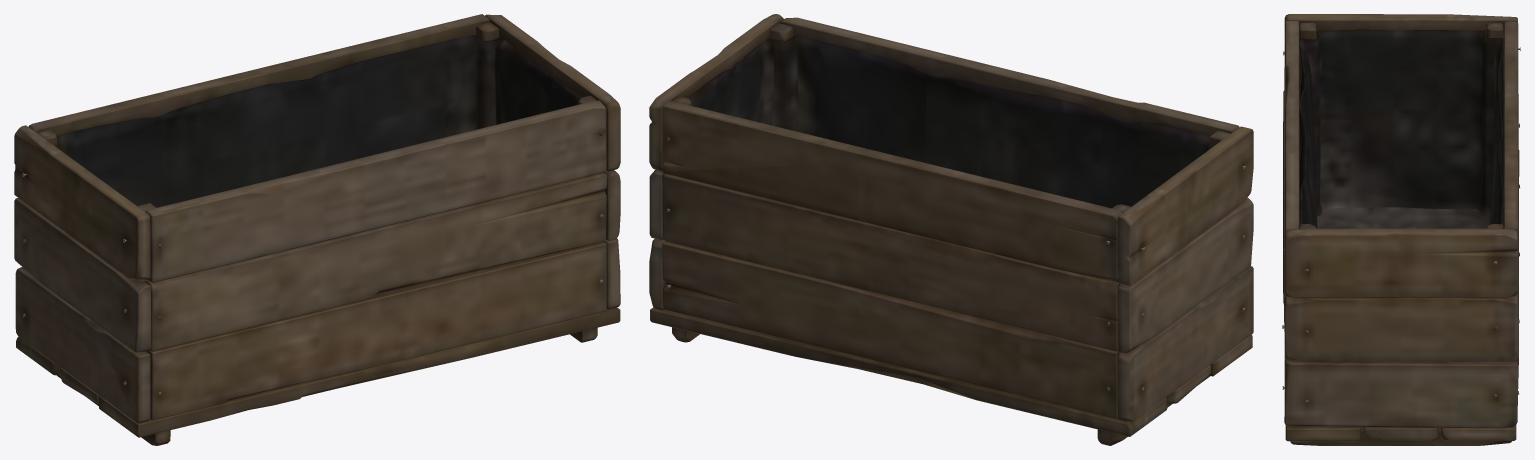
The model's file is planter-box-01.lite.ebd508a8.glb.
3 renders of one model, left to right at view 1: azimuth 30°, elevation 25°; view 2: azimuth 150°, elevation 25°; view 3: azimuth 270°, elevation 25°, orthographic. The views are drawn at different scales.
Parts seen in each view (by area): view 1: model; view 2: model; view 3: model.
Boxes of the visible parts, x1,y1,x2,y2 form: model: [14, 14, 620, 445]; model: [649, 14, 1253, 445]; model: [1282, 14, 1520, 445].
Size of the model in its own units: 0.9126 by 0.425 by 0.4137.
Materials: 1 (1 with a texture image).
